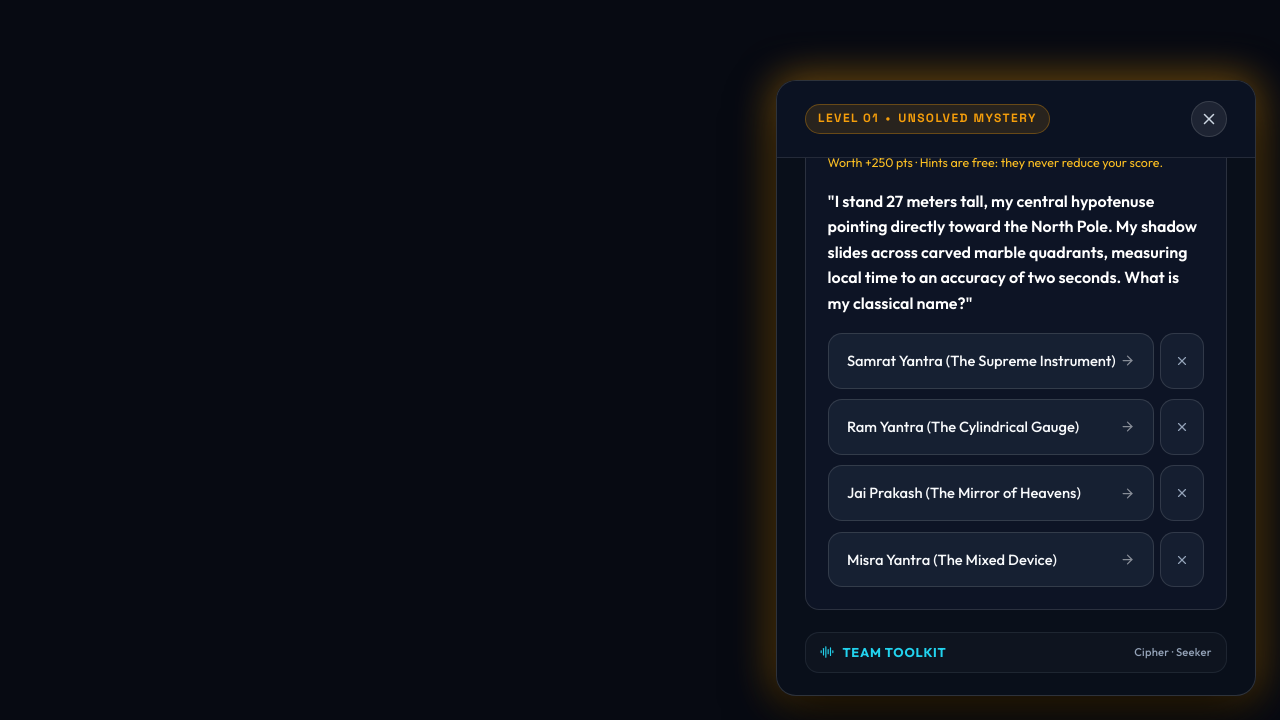
hints and scoring › awards the level points on a correct answer and nothing on a wrong one
(page scrolled)
Click the button "Ram Yantra (The Cylindrical Gauge)" at (991, 427), box [828,399,1154,455]
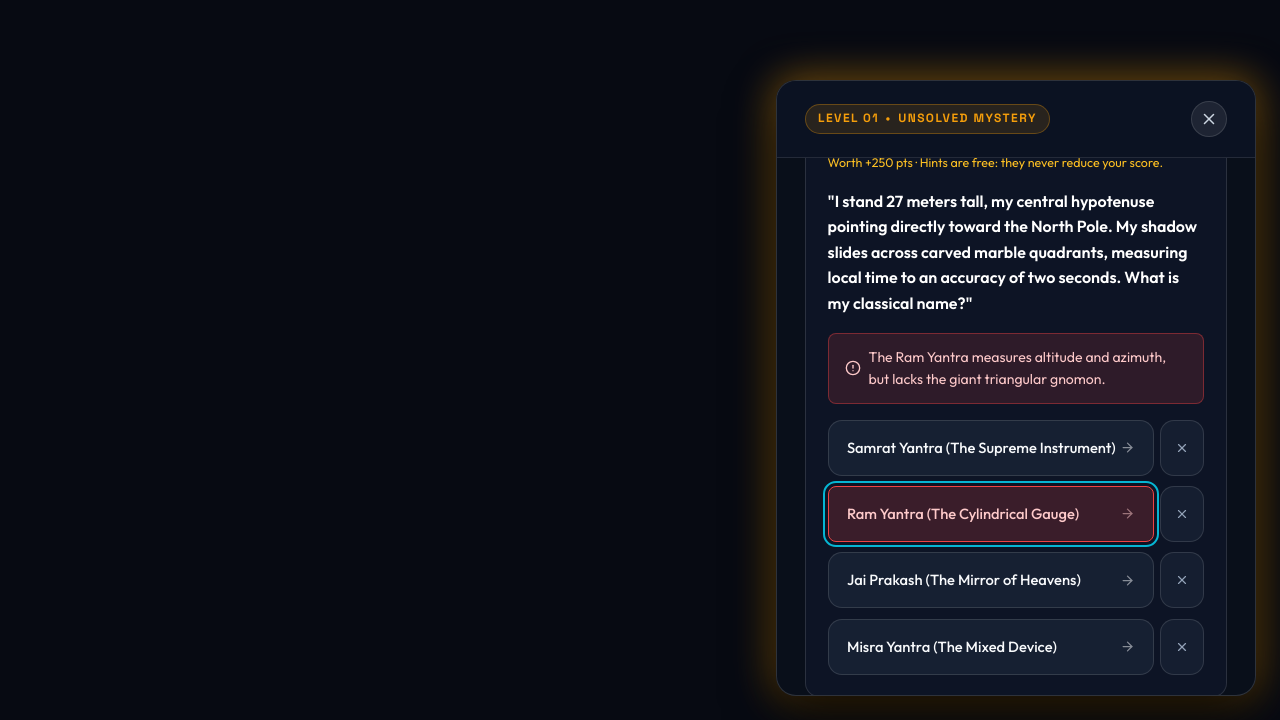
Click the button "Samrat Yantra (The Supreme Instrument)" at (991, 448), box [828,420,1154,476]
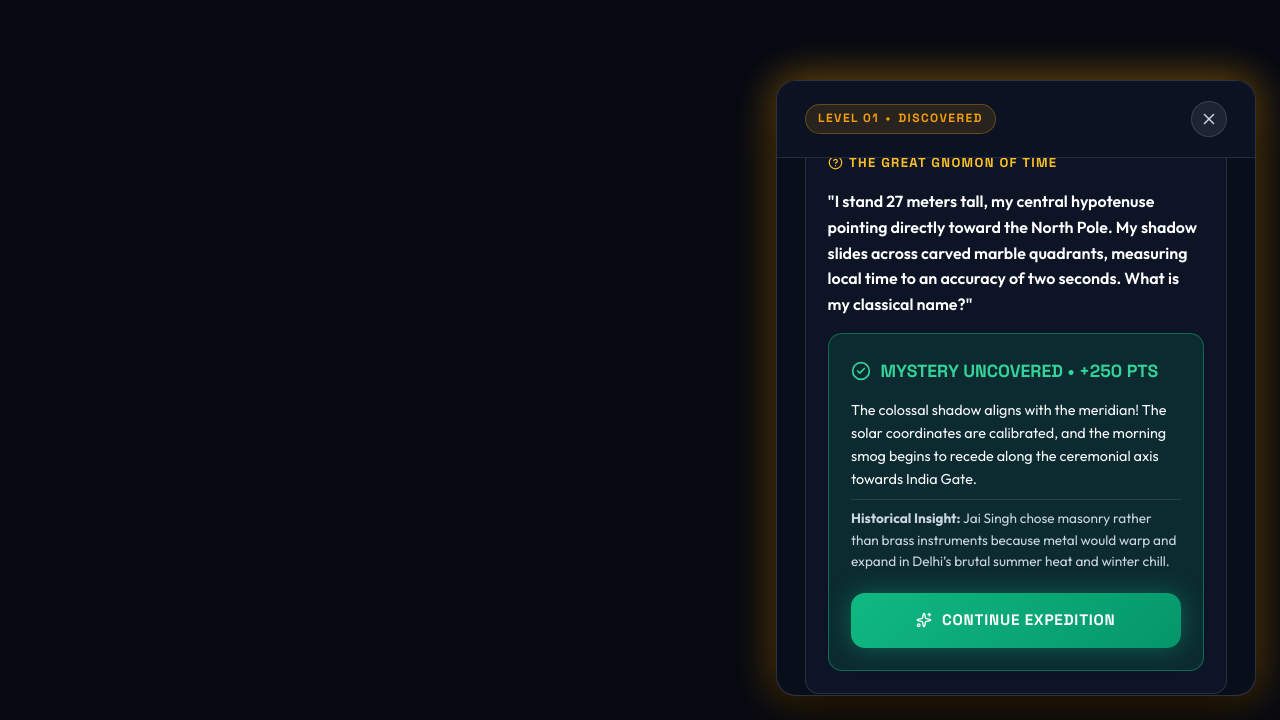
Expected: the text "MYSTERY UNCOVERED • +250 PTS" is shown, [881,357,1158,385]
